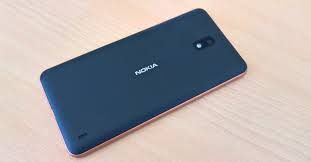nokia: (37, 6, 251, 158)
